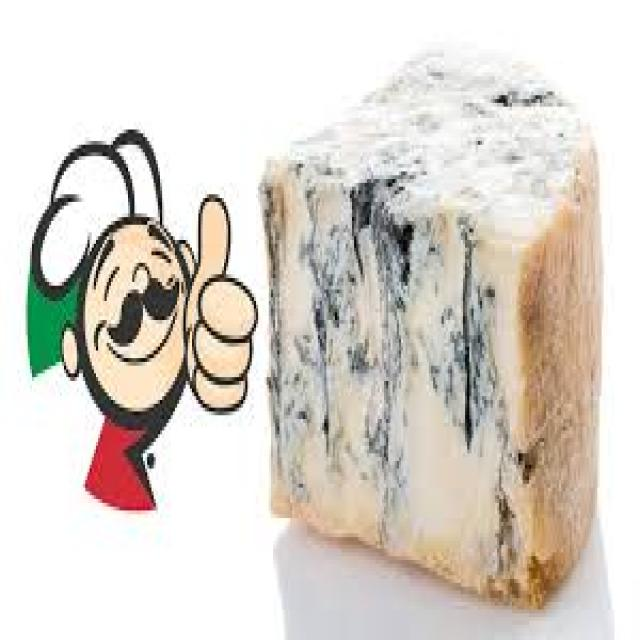Cheese: (253, 40, 600, 620)
